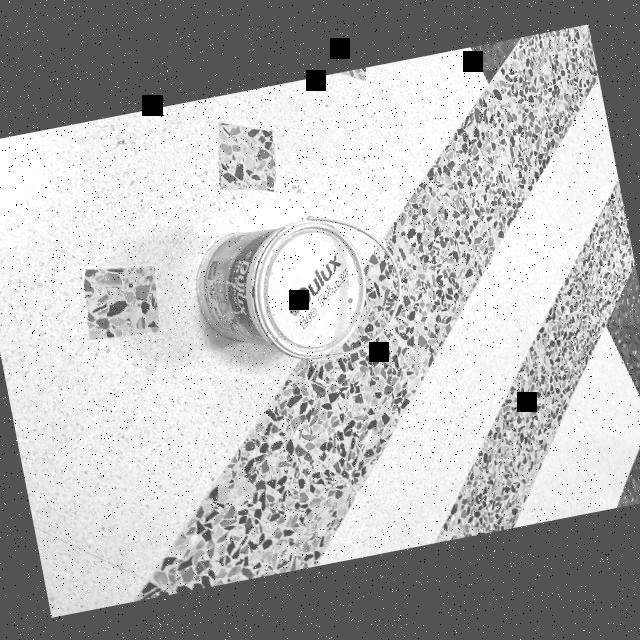paint_bucket: (184, 208, 382, 374)
